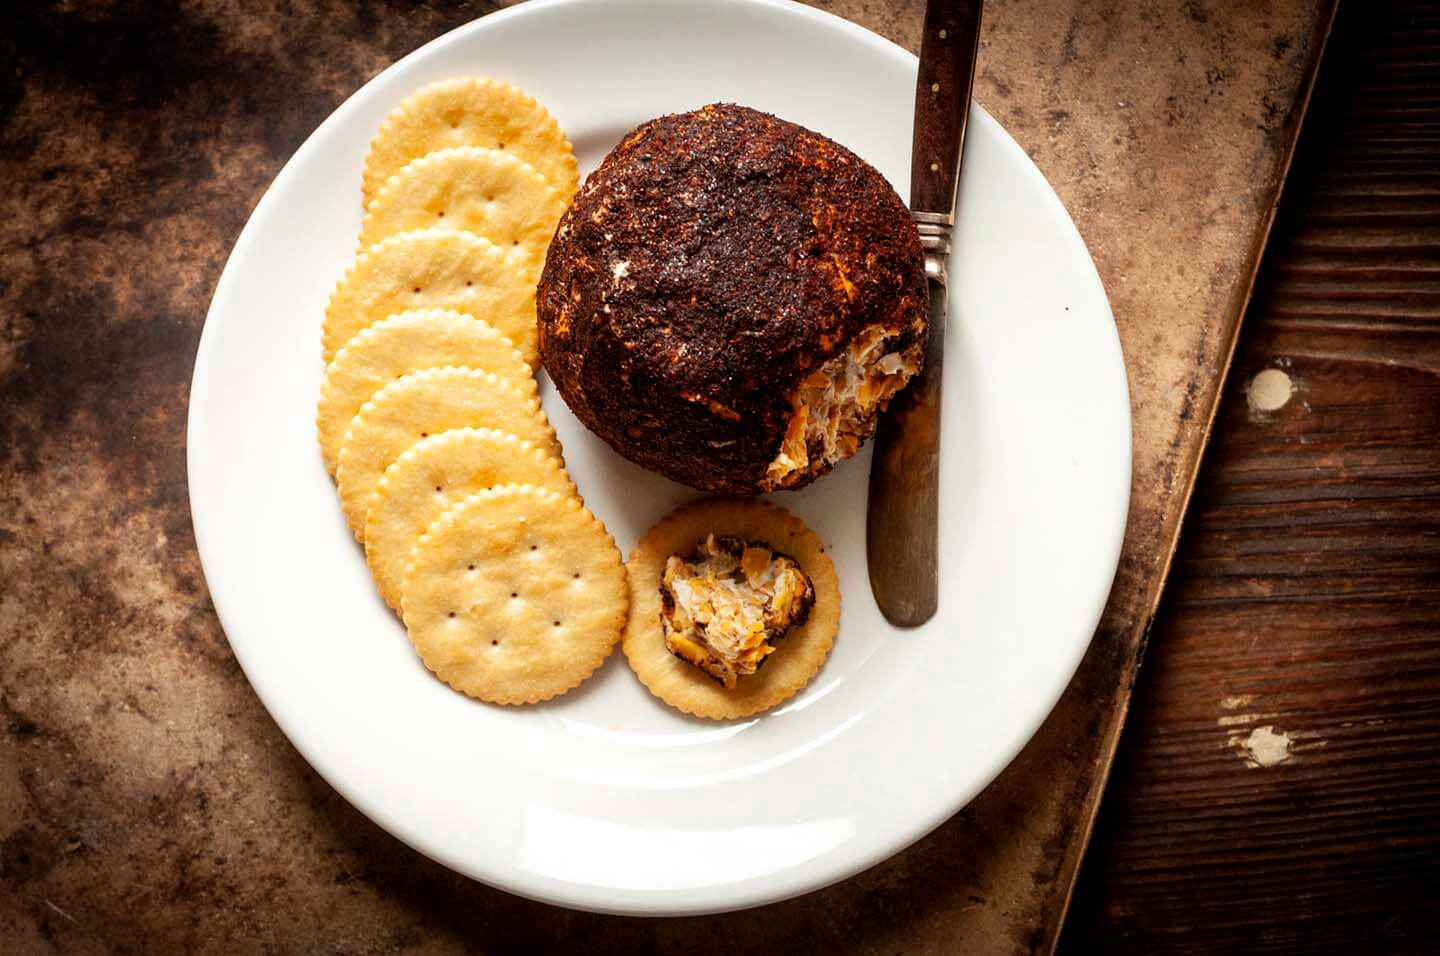cheese: (601, 85, 946, 490), (661, 520, 831, 700)
